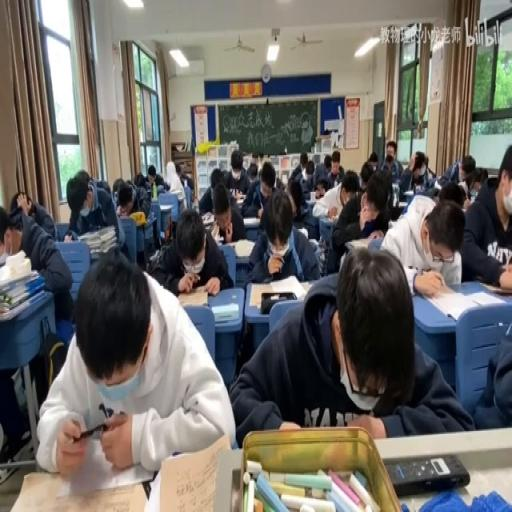calculator: (150, 431, 232, 512), (6, 466, 150, 510), (417, 282, 499, 322), (246, 273, 306, 307), (177, 286, 208, 307), (212, 300, 238, 322), (478, 280, 512, 296), (232, 236, 255, 256), (346, 238, 370, 250), (142, 216, 156, 235), (300, 279, 314, 294), (200, 212, 214, 225), (243, 214, 261, 224), (166, 188, 181, 200), (390, 184, 398, 206), (210, 222, 219, 240), (297, 226, 309, 239), (234, 193, 246, 205), (468, 189, 478, 201), (398, 199, 408, 209), (308, 192, 317, 202), (159, 204, 173, 210), (434, 179, 442, 189), (404, 189, 414, 196)
paper: (229, 245, 469, 438), (38, 250, 232, 476), (0, 195, 71, 334), (381, 189, 464, 287), (244, 185, 322, 283), (152, 206, 232, 297), (461, 144, 512, 286), (330, 168, 394, 273), (66, 168, 126, 259), (470, 308, 511, 430), (195, 165, 228, 215), (399, 148, 434, 195), (223, 150, 248, 196), (378, 139, 403, 185), (310, 151, 336, 189), (436, 155, 463, 185), (436, 182, 466, 208), (10, 189, 34, 218), (144, 164, 168, 192), (298, 159, 315, 192), (260, 161, 276, 196), (286, 186, 302, 216), (360, 159, 374, 191), (176, 161, 192, 189), (341, 181, 358, 206), (0, 215, 12, 249), (93, 178, 111, 196), (112, 176, 125, 200), (246, 160, 258, 184), (461, 158, 474, 180), (134, 172, 147, 189), (477, 166, 488, 186), (314, 181, 326, 196), (486, 174, 498, 188), (335, 165, 344, 181), (331, 155, 339, 169), (423, 155, 429, 171), (324, 164, 330, 174)
person: (384, 452, 470, 494)
